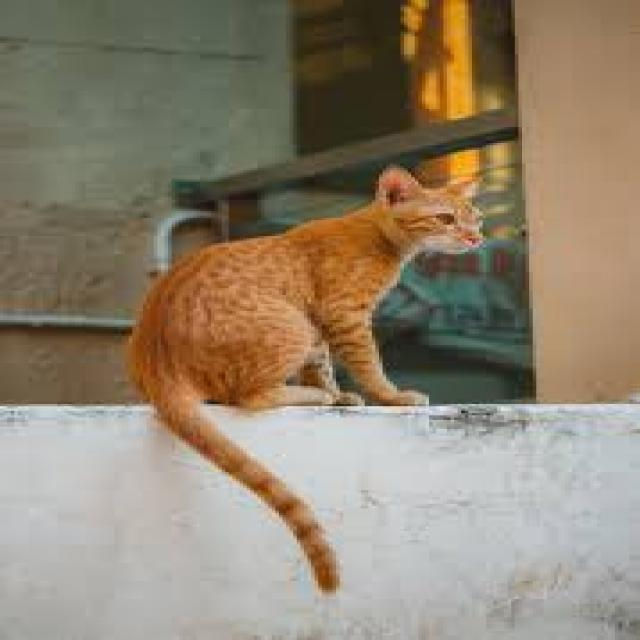Cat: (125, 165, 501, 598)
